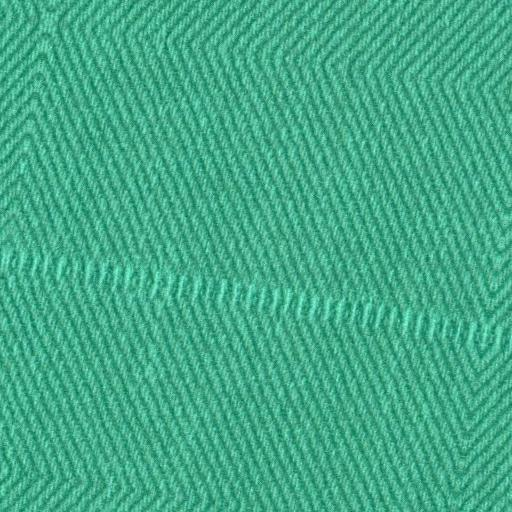slub: (1, 242, 511, 362)
